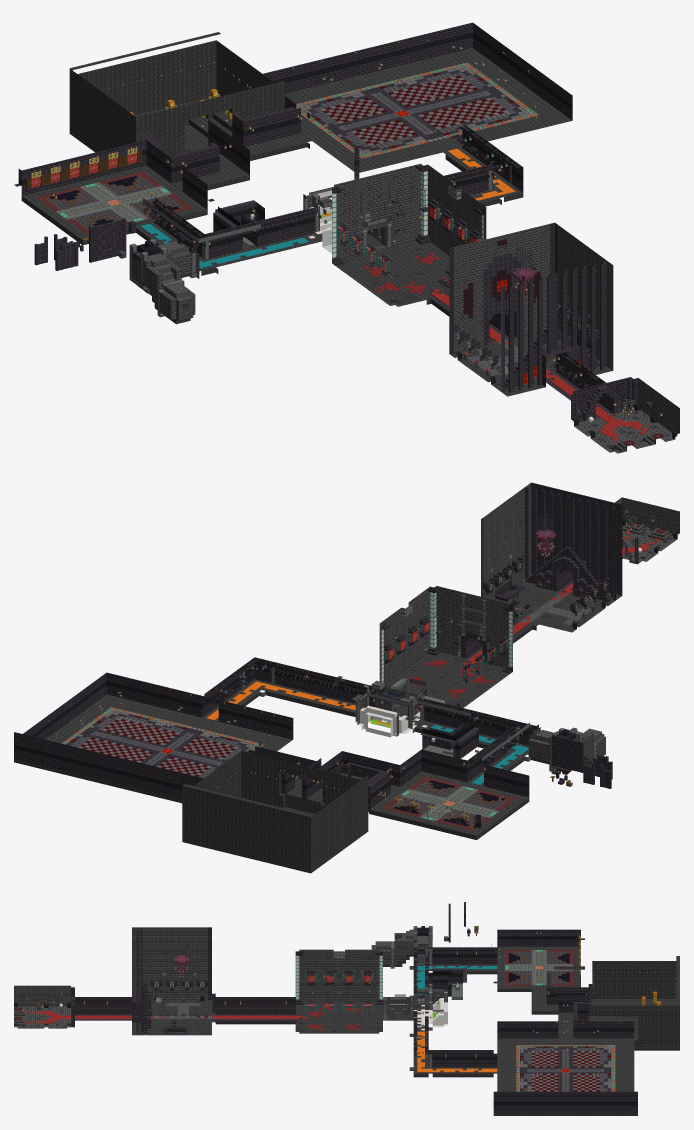
The model's file is MobilkiProj.glb.
3 renders of one model, top to bottom at view 1: azimuth 30°, elevation 25°; view 2: azimuth 150°, elevation 25°; view 3: azimuth 270°, elevation 25°, orthographic. The views are drawn at different scales.
Parts seen in each view (by area): view 1: chunk_-1_-3, chunk_-1_-4, chunk_-1_-7, chunk_-1_-6, chunk_-2_-7, chunk_-1_-10, chunk_-2_-10, chunk_-2_-3, chunk_-2_-4, chunk_-1_-12, chunk_2_-10, chunk_-4_-7 (+29 smaller); view 2: chunk_-1_-3, chunk_-2_-3, chunk_-1_-6, chunk_-1_-5, chunk_-2_-12, chunk_-1_-10, chunk_2_-9, chunk_-1_-12, chunk_1_-9, chunk_-3_-9, chunk_-2_-10, chunk_0_-9 (+30 smaller); view 3: chunk_-2_-3, chunk_-2_-6, chunk_-2_-11, chunk_-1_-11, chunk_-1_-3, chunk_-2_-10, chunk_-2_-4, chunk_-1_-10, chunk_-4_-9, chunk_-3_-8, chunk_1_-8, chunk_0_-10 (+28 smaller).
Boxes of the visible parts, x1,y1,x2,y2 form: chunk_-1_-3: (505, 235, 613, 387); chunk_-1_-4: (487, 222, 571, 356); chunk_-1_-7: (327, 163, 433, 258); chunk_-1_-6: (375, 169, 477, 291); chunk_-2_-7: (250, 178, 370, 267); chunk_-1_-10: (194, 73, 311, 160); chunk_-2_-10: (116, 98, 233, 180); chunk_-2_-3: (466, 278, 545, 396); chunk_-2_-4: (449, 239, 500, 365); chunk_-1_-12: (147, 32, 220, 111); chunk_2_-10: (424, 33, 530, 105); chunk_-4_-7: (129, 239, 195, 324); chunk_-1_-3: (495, 482, 589, 613); chunk_-2_-3: (554, 496, 622, 621); chunk_-1_-6: (384, 592, 475, 697); chunk_-1_-5: (423, 586, 486, 669); chunk_-2_-12: (244, 799, 313, 873); chunk_-1_-10: (227, 741, 321, 811); chunk_2_-9: (70, 672, 160, 733); chunk_-1_-12: (182, 784, 246, 857); chunk_1_-9: (125, 686, 226, 749); chunk_-3_-9: (390, 750, 491, 814); chunk_-2_-10: (299, 761, 389, 843); chunk_0_-9: (191, 702, 293, 759); chunk_-2_-3: (132, 927, 188, 1012); chunk_-2_-6: (311, 949, 371, 1012); chunk_-2_-11: (615, 961, 676, 1022); chunk_-1_-11: (615, 1003, 676, 1050); chunk_-1_-3: (128, 941, 188, 1035); chunk_-2_-10: (554, 961, 615, 1021); chunk_-2_-4: (189, 927, 215, 1012); chunk_-1_-10: (554, 998, 615, 1038); chunk_-4_-9: (497, 929, 554, 961); chunk_-3_-8: (432, 943, 493, 986); chunk_1_-8: (432, 1050, 493, 1077); chunk_0_-10: (554, 1022, 615, 1064).
Size of what is drawn, in the model's own units: 118 by 25 by 175.
Materials: 108 (100 with a texture image).
